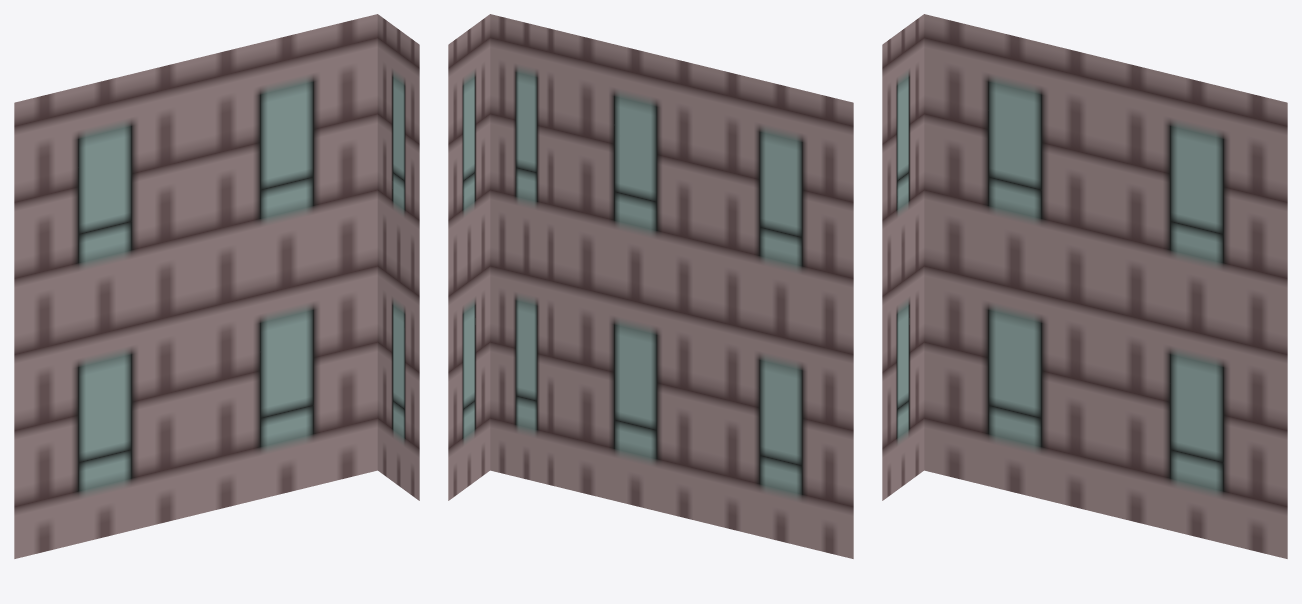
3 renders of one model, left to right at view 1: azimuth 30°, elevation 25°; view 2: azimuth 150°, elevation 25°; view 3: azimuth 330°, elevation 25°, orthographic.
Size of the model in its own units: 5 by 6 by 1.
Materials: 2 (1 with a texture image).
